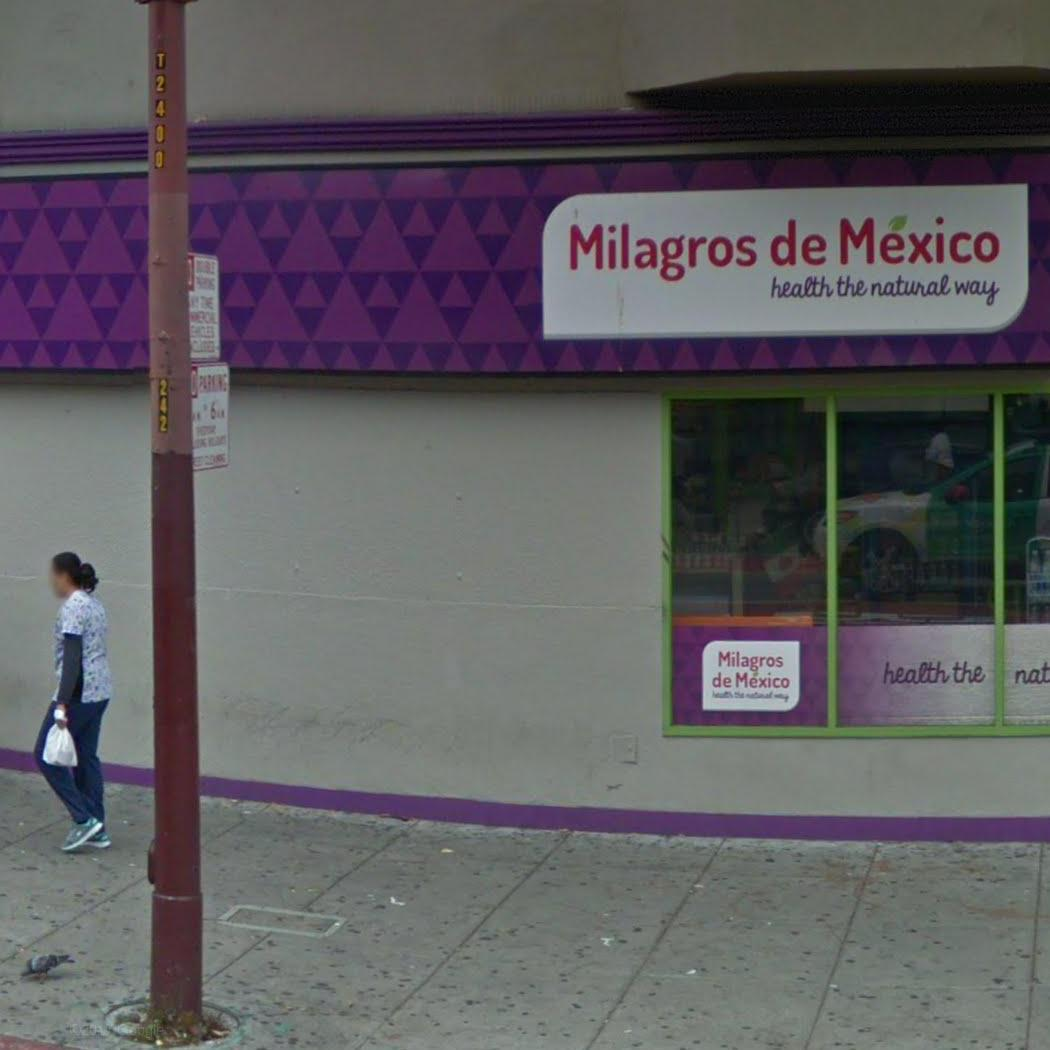No Parking: (187, 362, 233, 473), (185, 251, 224, 364)
